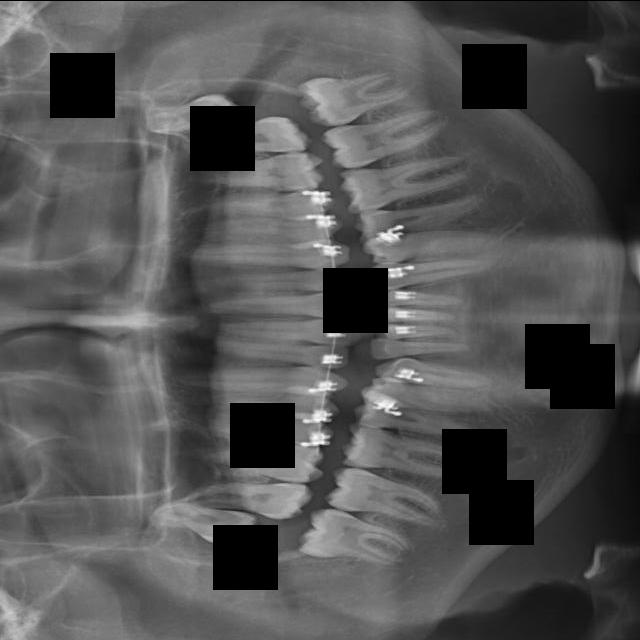3M ESPE Implant: (149, 498, 263, 550)
AGS Medikal Implant: (318, 103, 457, 172)
AMerOss Implant: (333, 134, 476, 217)
Amalgam filling: (178, 481, 315, 519)
Anthogyr Implant: (349, 187, 498, 243)
Bicon Implant: (355, 225, 504, 263)
BioHorizons Implant: (362, 255, 504, 288)
BioLife Implant: (371, 286, 470, 307)
Biomet 3i Implant: (372, 305, 459, 321)
Blue Sky Bio Implant: (372, 322, 461, 340)
Camlog Implant: (369, 337, 477, 364)
Caries: (210, 265, 357, 298)
Composite filling: (372, 353, 500, 388)
Cowellmedi Implant: (363, 377, 509, 417)
Crown: (349, 387, 491, 456)
DENTSPLY Implant: (190, 436, 327, 483)
Dentatus Implant: (339, 420, 480, 483)
Dentis Implant: (321, 461, 454, 532)
Dentium Implant: (294, 503, 417, 580)
Euroteknika Implant: (204, 411, 334, 446)
Filling: (206, 387, 344, 419)
Frontier Implant: (166, 364, 349, 393)
Hiossen Implant: (173, 238, 353, 273)
Implant: (212, 317, 362, 346)
Implant Direct: (208, 329, 354, 371)
Keystone Dental Implant: (204, 289, 362, 316)
MIS Implant: (183, 210, 345, 246)
Mandible: (203, 187, 339, 219)
Maxilla: (190, 149, 327, 196)
Megagen Implant: (182, 112, 318, 159)
Neodent Implant: (137, 89, 251, 135)
Neoss Implant: (293, 67, 422, 128)
